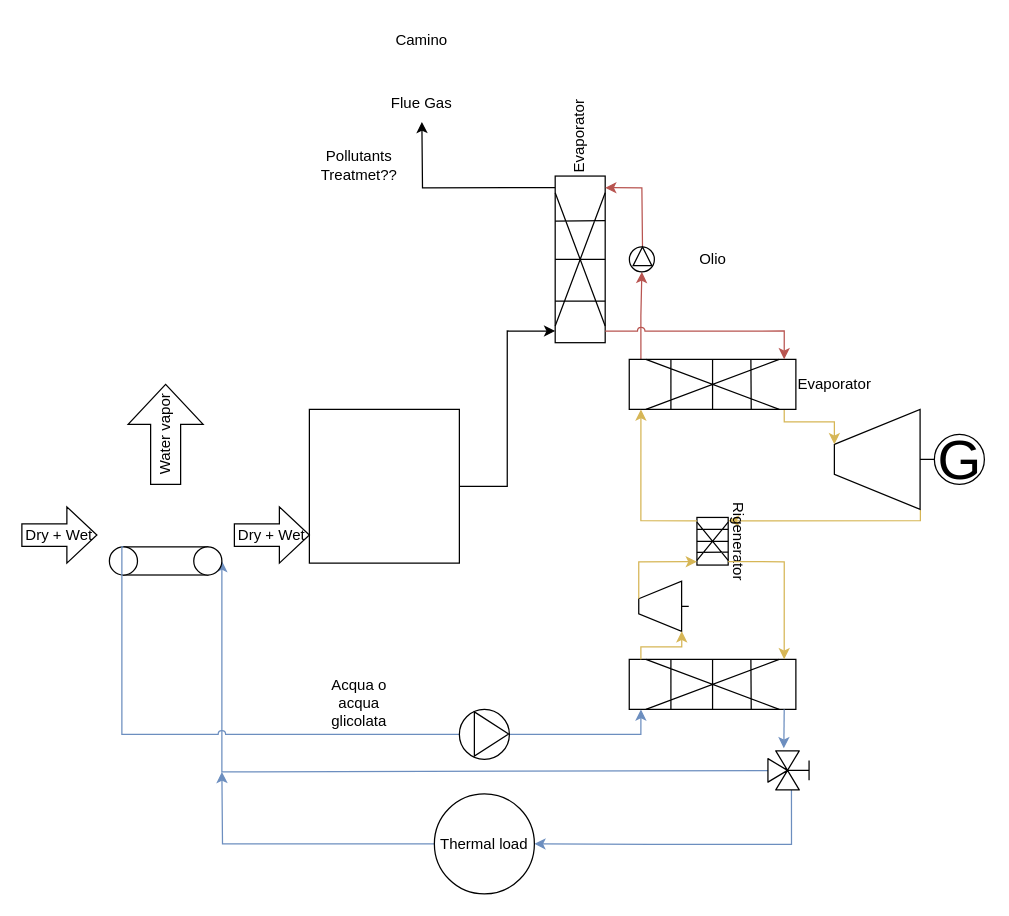
Image size: 1009x916. Some labels were removed from this diagram. The shapes that lost their labels are listed below. From the top down, each one's box as (x1, y1, x2, y2) in pixels, then its label:
(833, 408, 934, 509): Turbine
(308, 408, 459, 563): Furnace
(638, 580, 689, 631): Pump
(628, 658, 796, 709): Condenser
